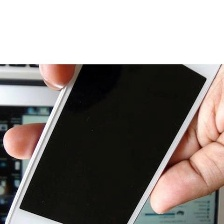phone: (2, 26, 223, 224)
